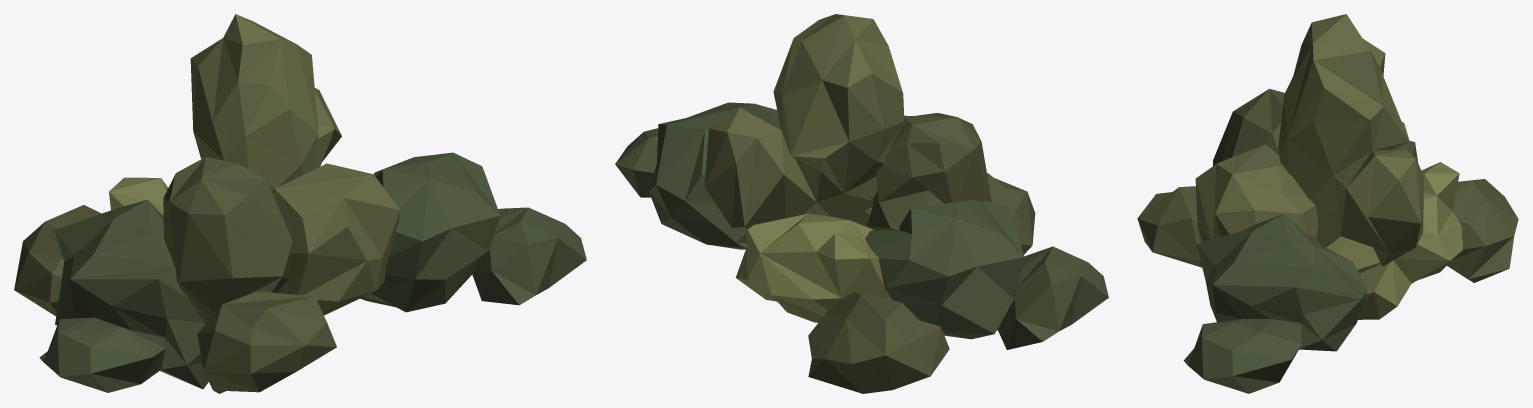
Rendered from env_bush_cluster.gltf.
The picture shows the model from 3 angles, left to right: view 1: azimuth 30°, elevation 25°; view 2: azimuth 150°, elevation 25°; view 3: azimuth 270°, elevation 25°; orthographic projection. The views are drawn at different scales.
Parts seen in each view (by area): view 1: env_bush_cluster; view 2: env_bush_cluster; view 3: env_bush_cluster.
Boxes of the visible parts, bbox=[...] form: env_bush_cluster: bbox=[14, 14, 586, 393]; env_bush_cluster: bbox=[615, 14, 1108, 393]; env_bush_cluster: bbox=[1137, 14, 1518, 393].
Bounding box in the file's own units: 15.26 × 9.42 × 10.59.
1 material, 1 textured.
